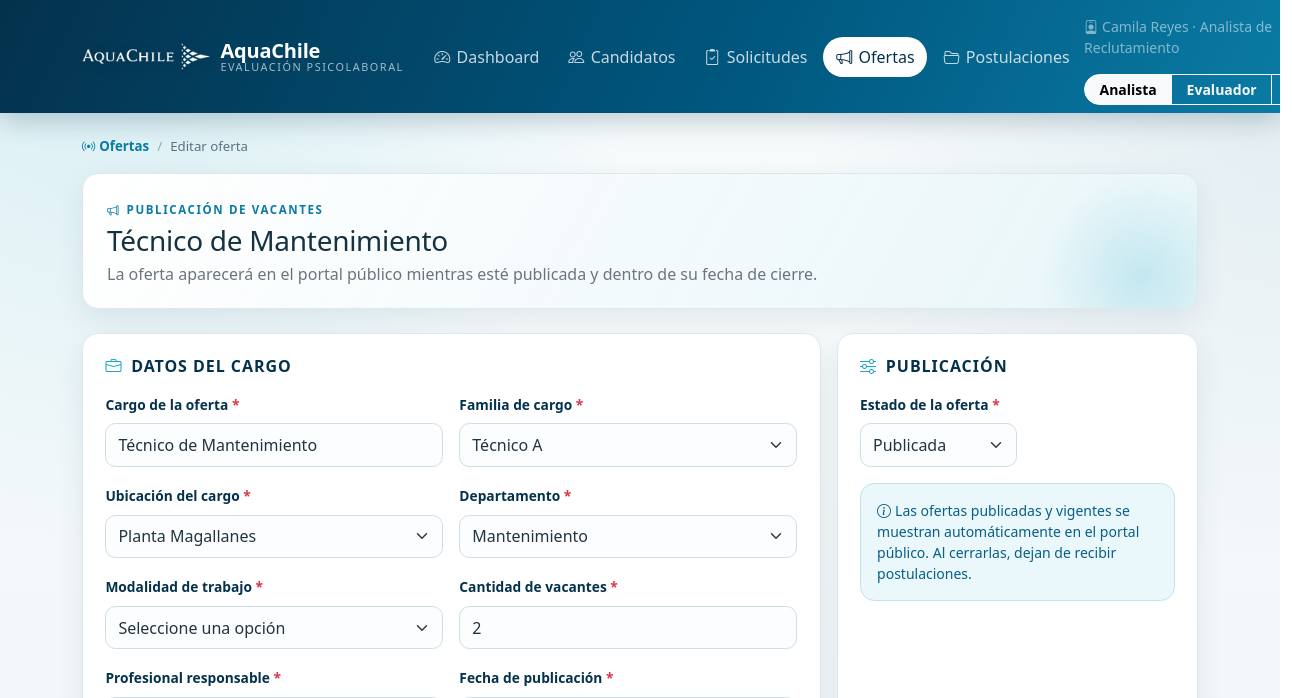
Scenario: OfertaFormPage — permisos y edición › edita una oferta existente y guarda los cambios
Replace the text in the number field labelled "Cantidad de vacantes *" with "3" at (628, 628), box [459,606,797,649]
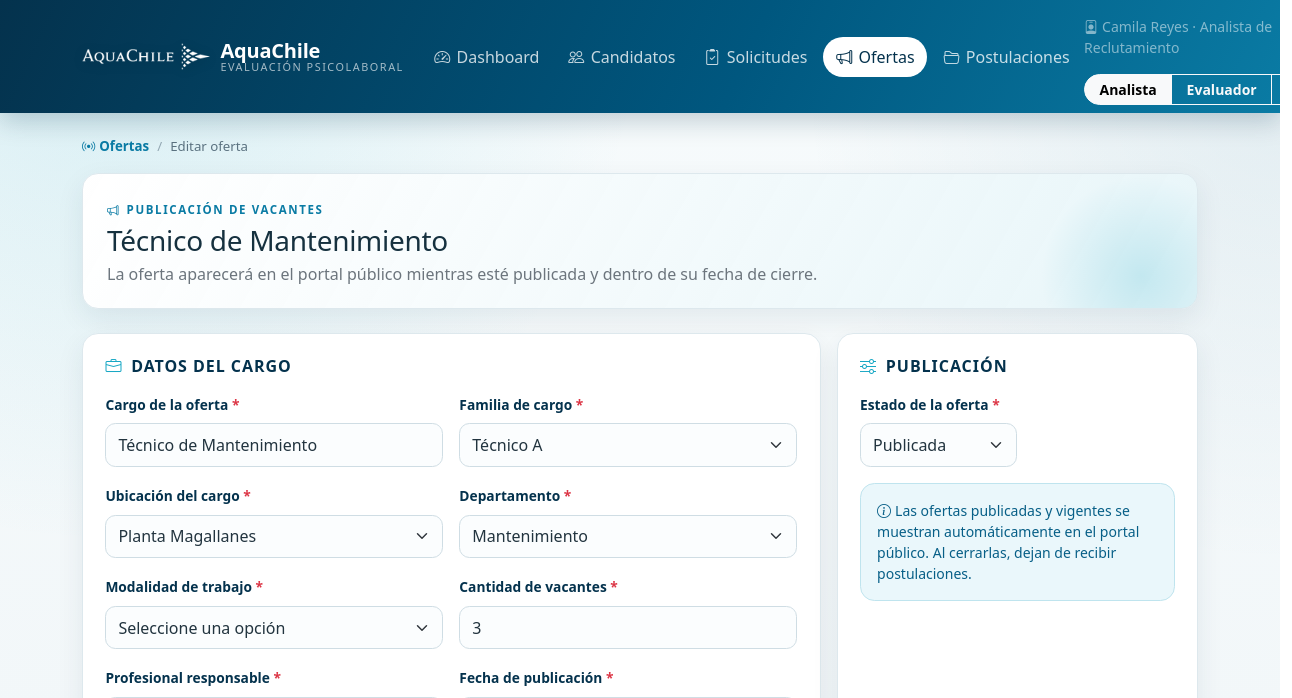
Select "Presencial" in the dropdown labelled "Modalidad de trabajo *" at (274, 628), box [105,606,443,649]
(page scrolled)
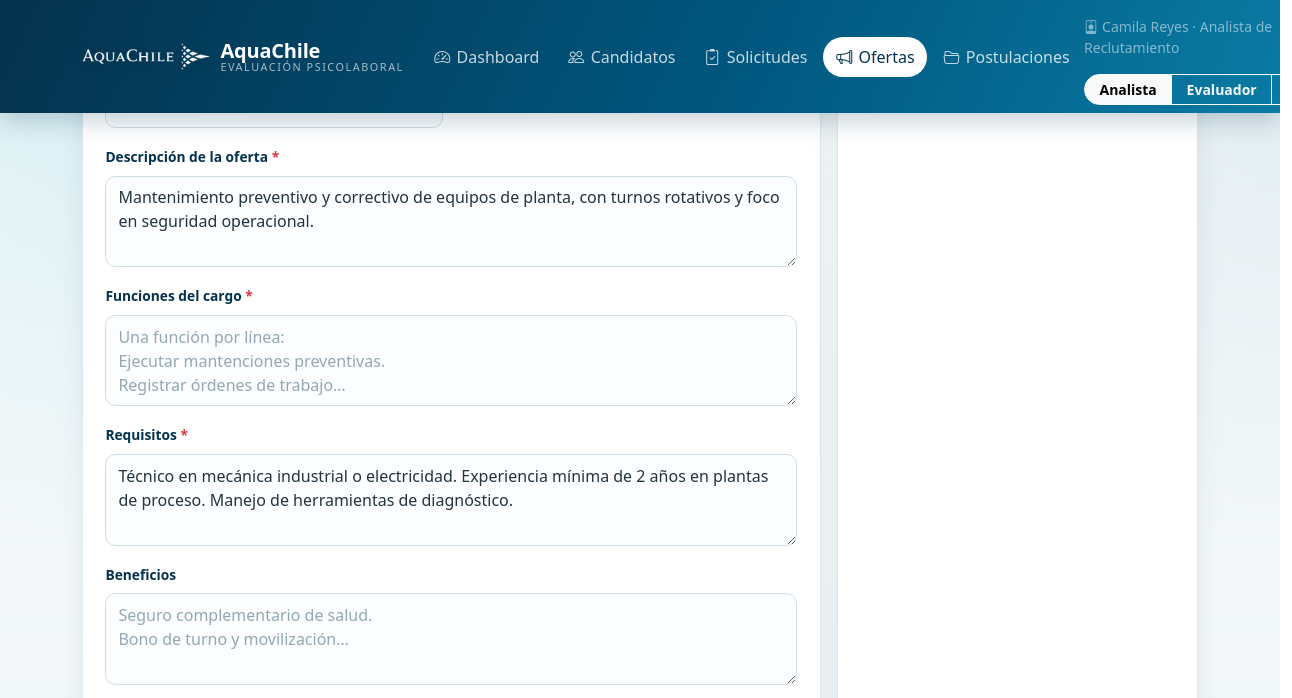
Replace the text in the text box labelled "Funciones del cargo *" with "Ejecutar mantenciones preventivas y registrar órdenes de trabajo." at (451, 361), box [105,315,797,406]
(page scrolled)
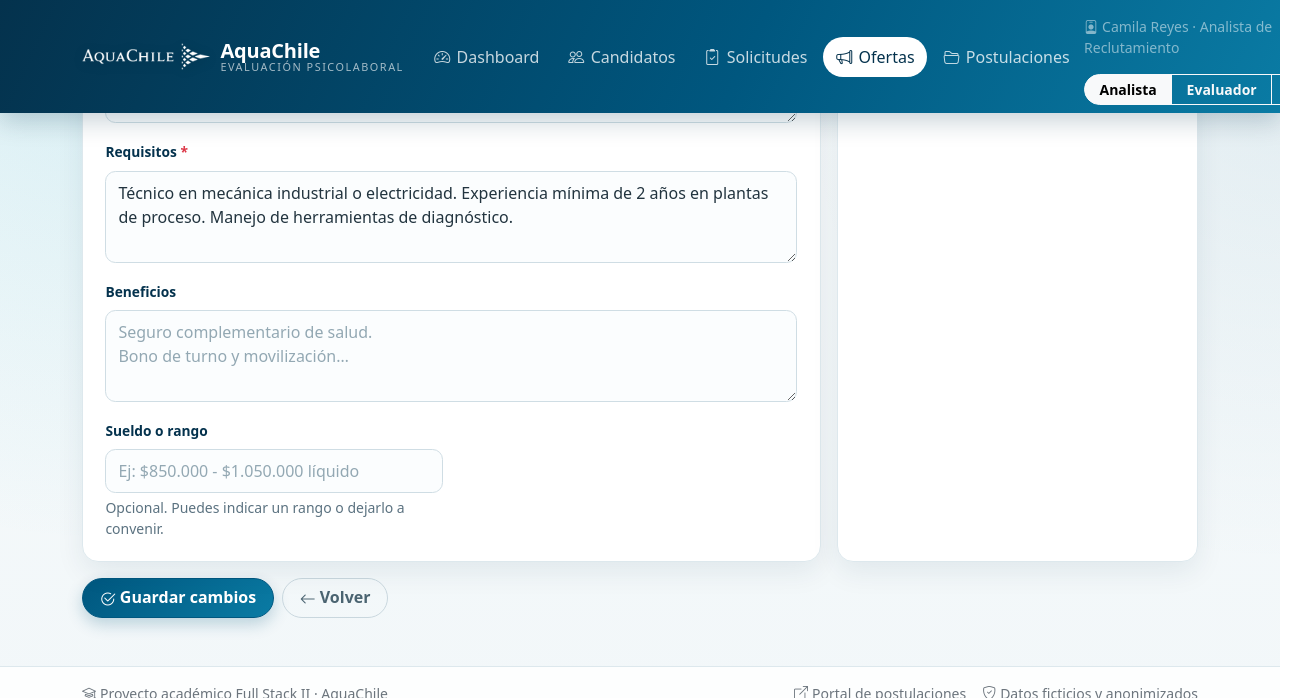
Click the button "Guardar cambios" at (178, 598), box [82,578,274,618]
(page scrolled)
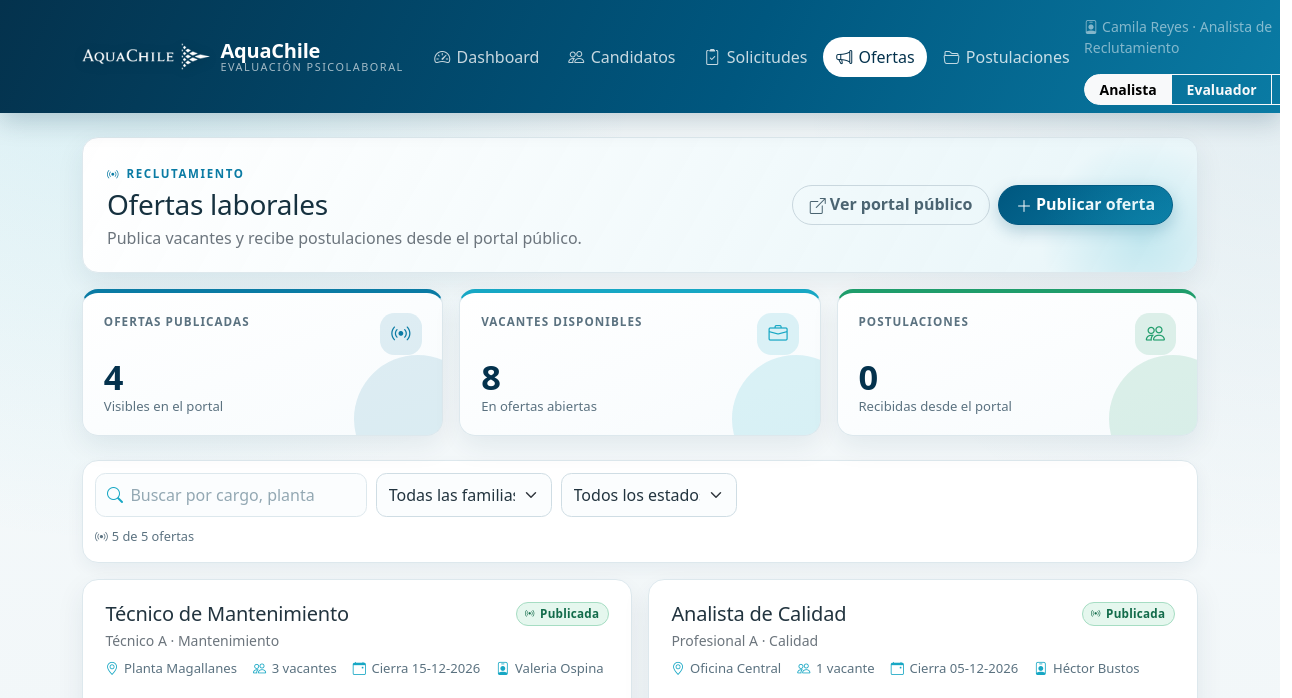
Expected: the heading "Ofertas laborales" is shown, [107,185,328,223]
